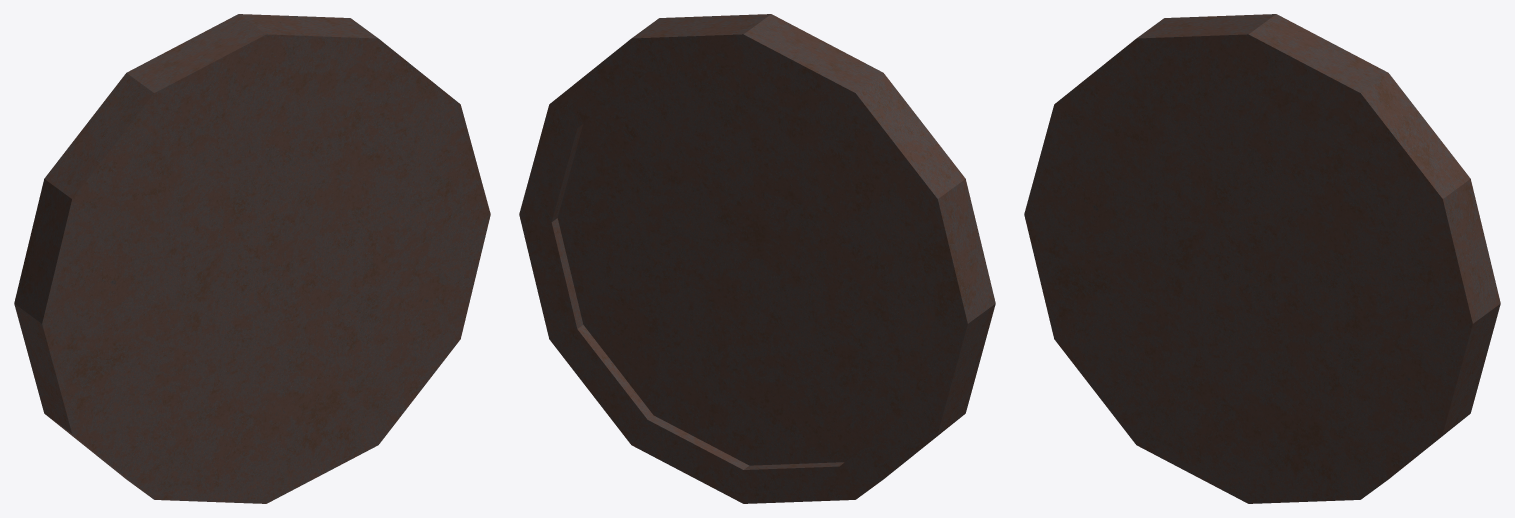
Rendered from Generator Crank Base.fbx.
The picture shows the model from 3 angles, left to right: view 1: azimuth 30°, elevation 25°; view 2: azimuth 150°, elevation 25°; view 3: azimuth 330°, elevation 25°; orthographic projection.
Visible parts, largest first — view 1: Baked CrankBase; view 2: Baked CrankBase; view 3: Baked CrankBase.
Part boxes in pixels (left/top/right/bottom): Baked CrankBase: left=14, top=14, right=490, bottom=503; Baked CrankBase: left=519, top=14, right=995, bottom=503; Baked CrankBase: left=1024, top=14, right=1500, bottom=503.
Size of the model in its own units: 50.83 by 50.83 by 5.48.
Materials: 1 (1 with a texture image).
